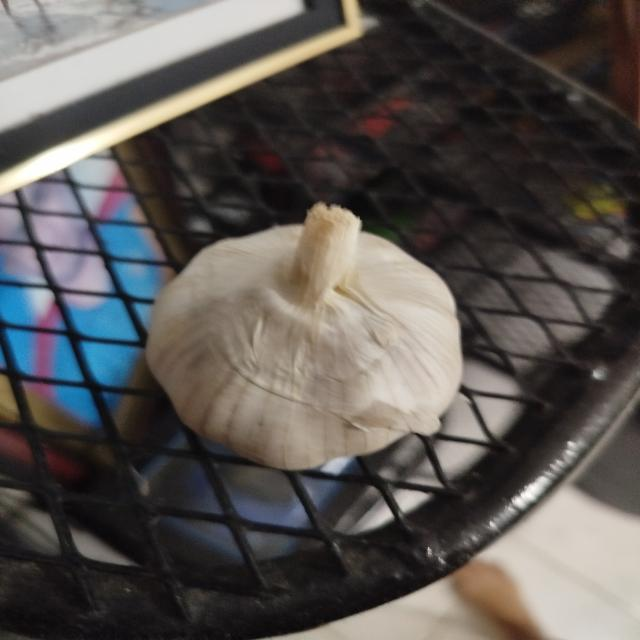garlic: (142, 201, 464, 471)
